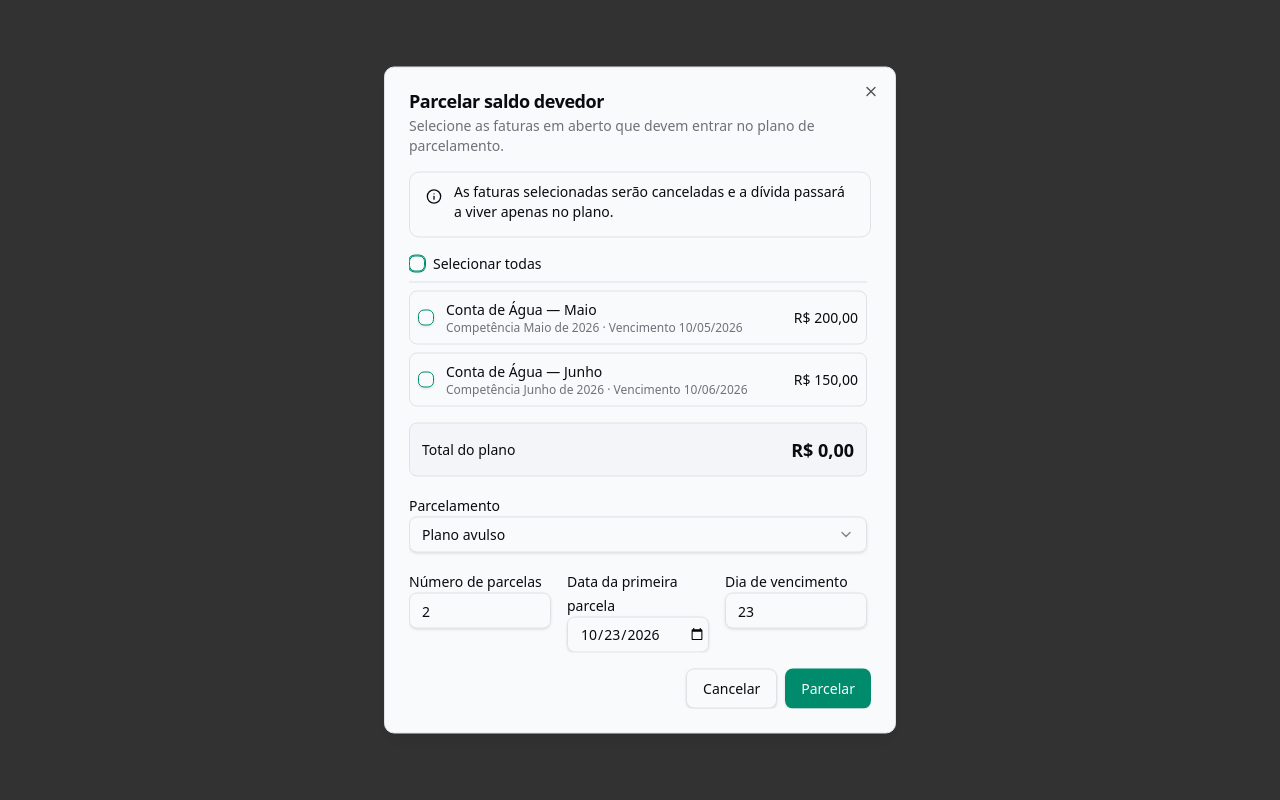
Test: ConsolidateDebtDialog › lista as bills com resto formatado e atualiza o total do plano conforme a seleção
This screenshot has width=1280, height=800.
Check: the text "R$ 200,00" is shown, box [794,308,858,328]
Check: the text "R$ 150,00" is shown, box [794,370,858,390]
Click the checkbox named "selecionar fatura conta de água — maio". click: click(426, 318)
box: [418,310,434,326]
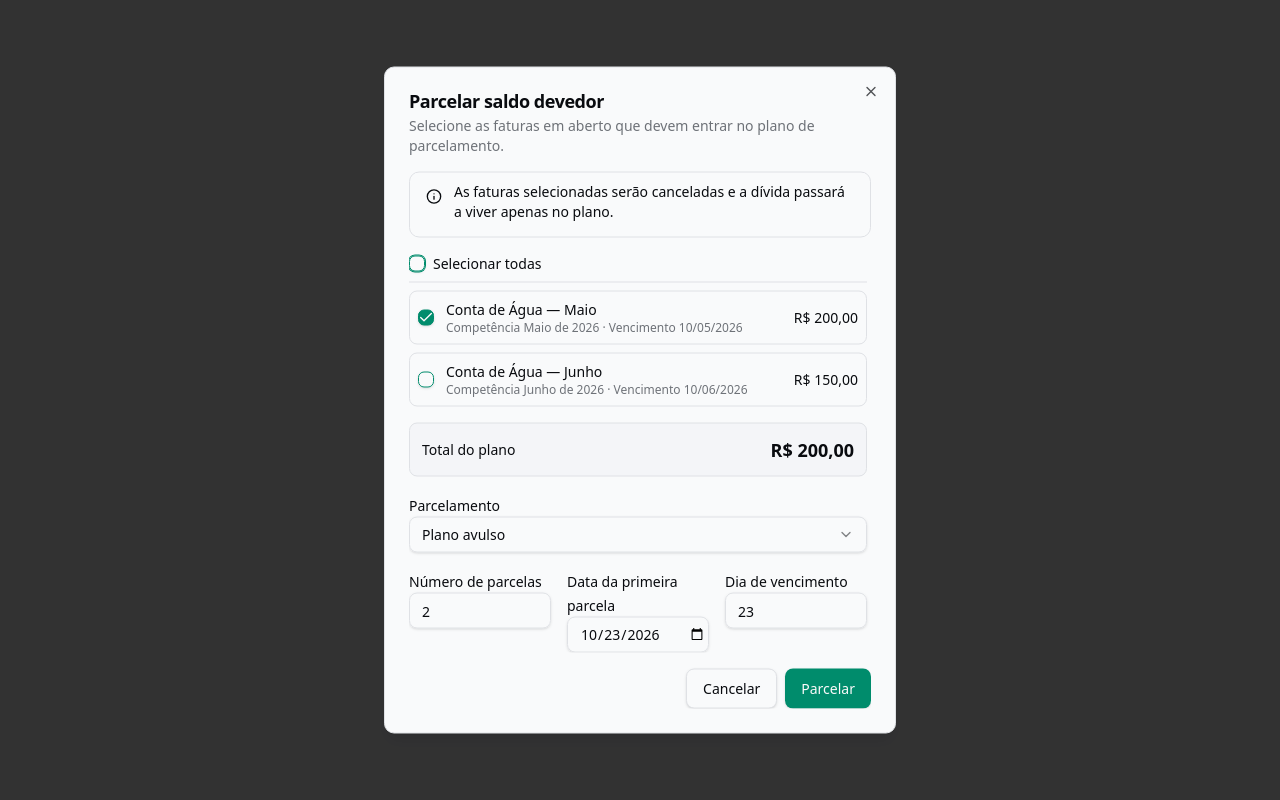
Check: the text "R$ 200,00" in the row of "Total do plano" is shown, box [770,438,854,462]
